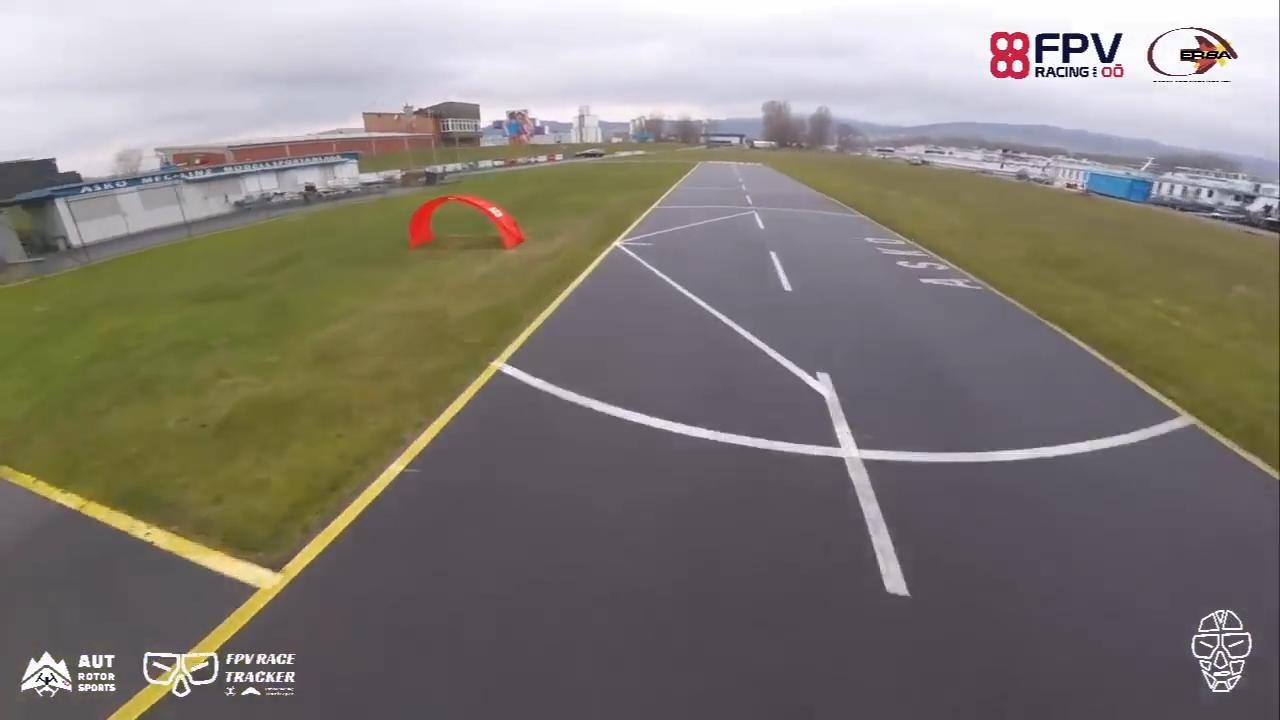gate: (406, 194, 524, 251)
